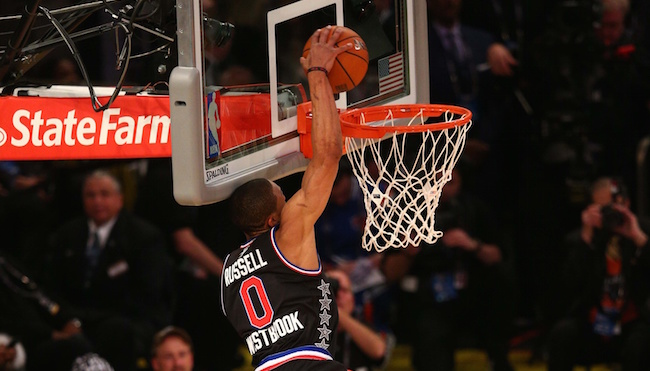basketball: (303, 24, 370, 93)
